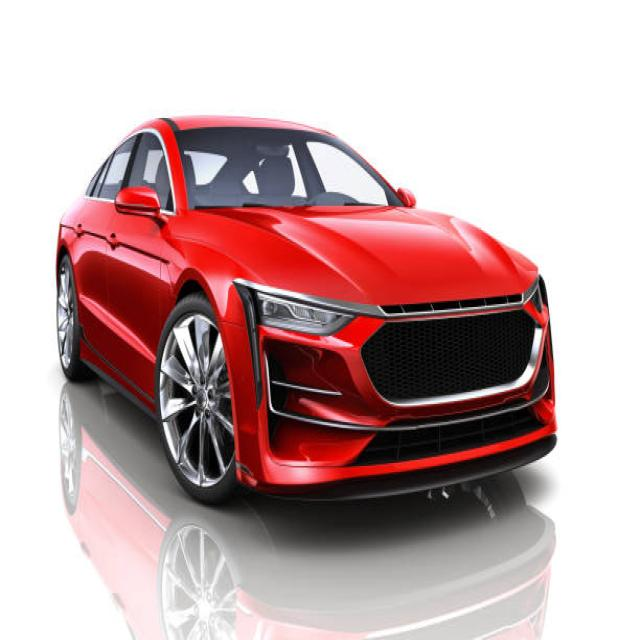car: (57, 117, 559, 506)
